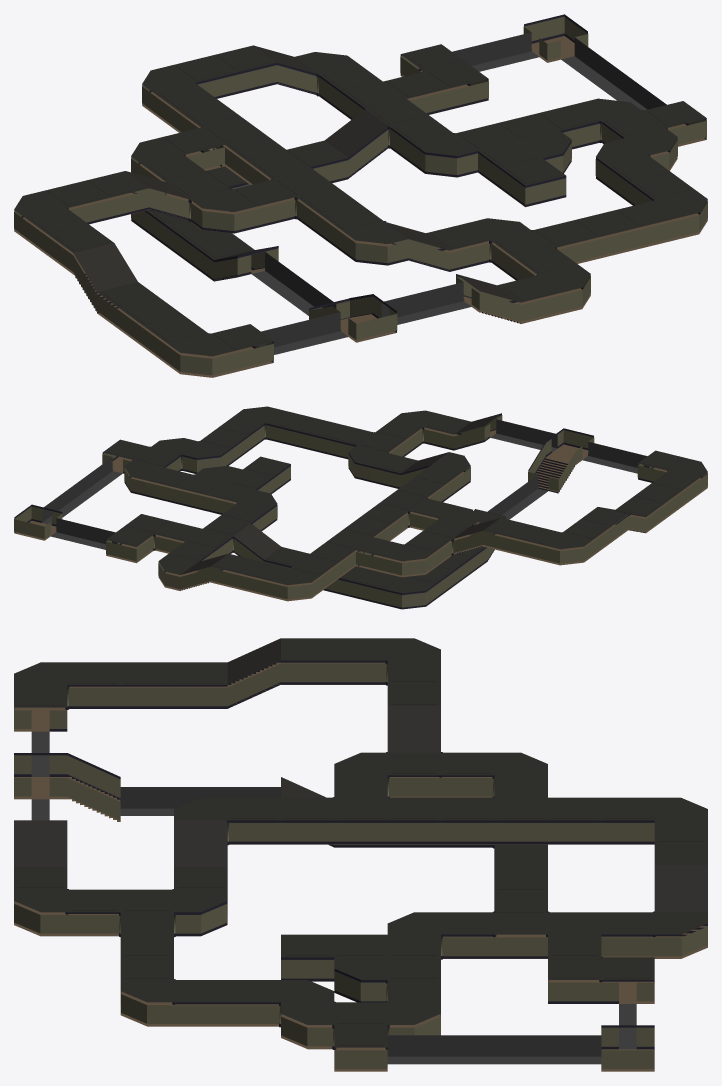
The model's file is Sifi_Scene.fbx.
3 renders of one model, top to bottom at view 1: azimuth 30°, elevation 25°; view 2: azimuth 150°, elevation 25°; view 3: azimuth 270°, elevation 25°, orthographic. The views are drawn at different scales.
Parts seen in each view (by area): view 1: Plane.314; view 2: Plane.314; view 3: Plane.314.
Boxes of the visible parts, x1,y1,x2,y2 form: Plane.314: (14, 14, 707, 377); Plane.314: (14, 406, 707, 609); Plane.314: (14, 638, 707, 1071).
Bounding box in the file's own units: 3200 × 401 × 2600.
